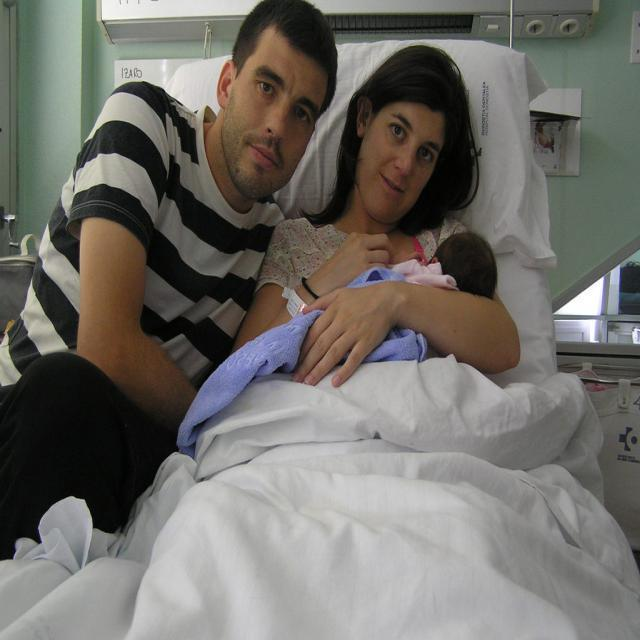closed-mouth: (249, 140, 280, 172), (381, 176, 404, 194)
